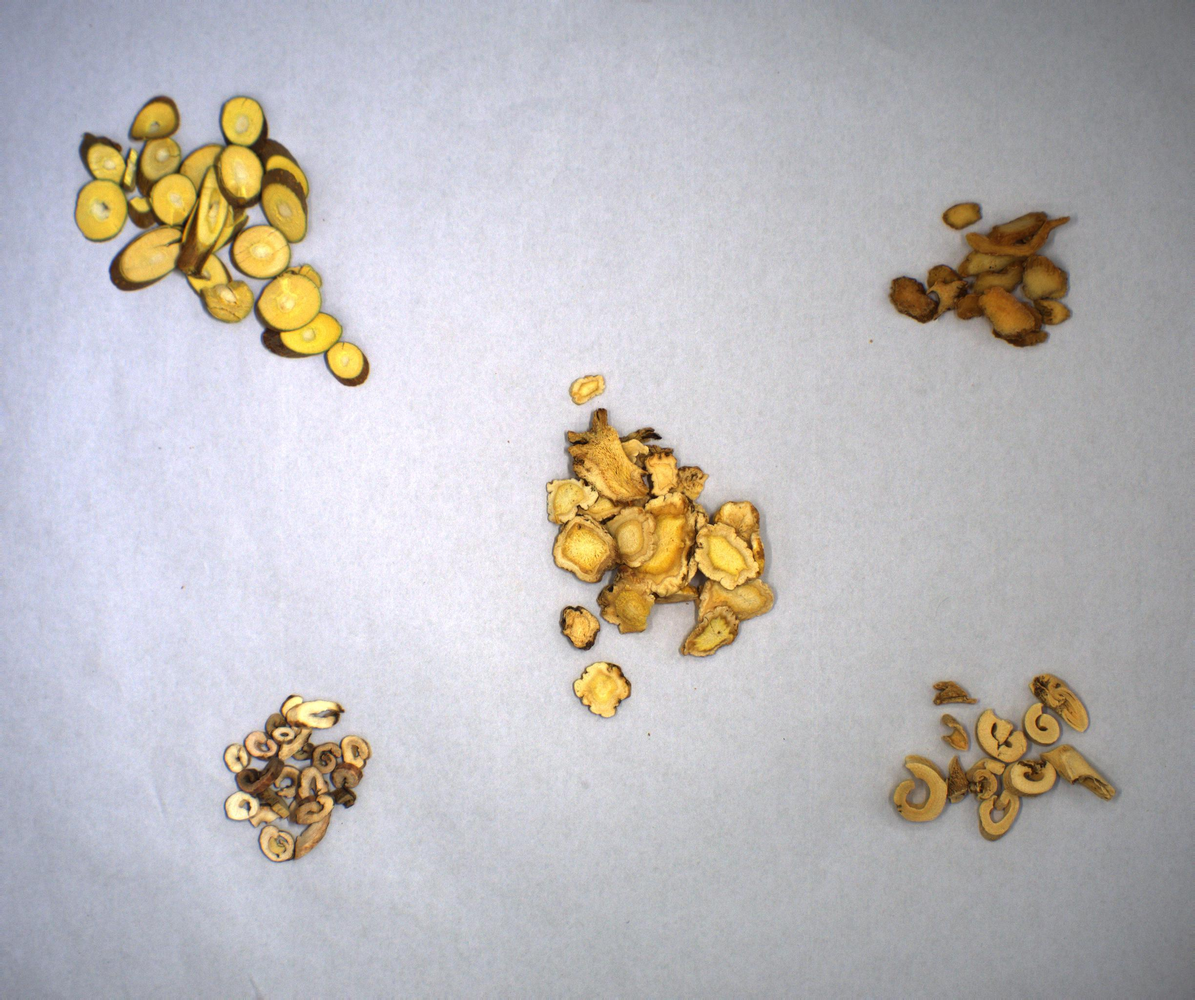baixianpi: (875, 643, 1149, 901)
jiegeng: (524, 326, 808, 809)
mudanpi: (180, 674, 428, 896)
sangzhi: (52, 76, 444, 446)
yuzhu: (842, 115, 1112, 370)
